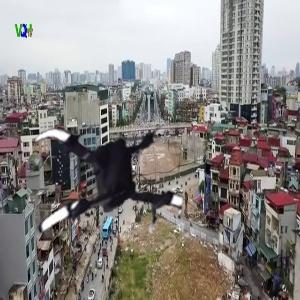drone: (22, 90, 204, 272)
